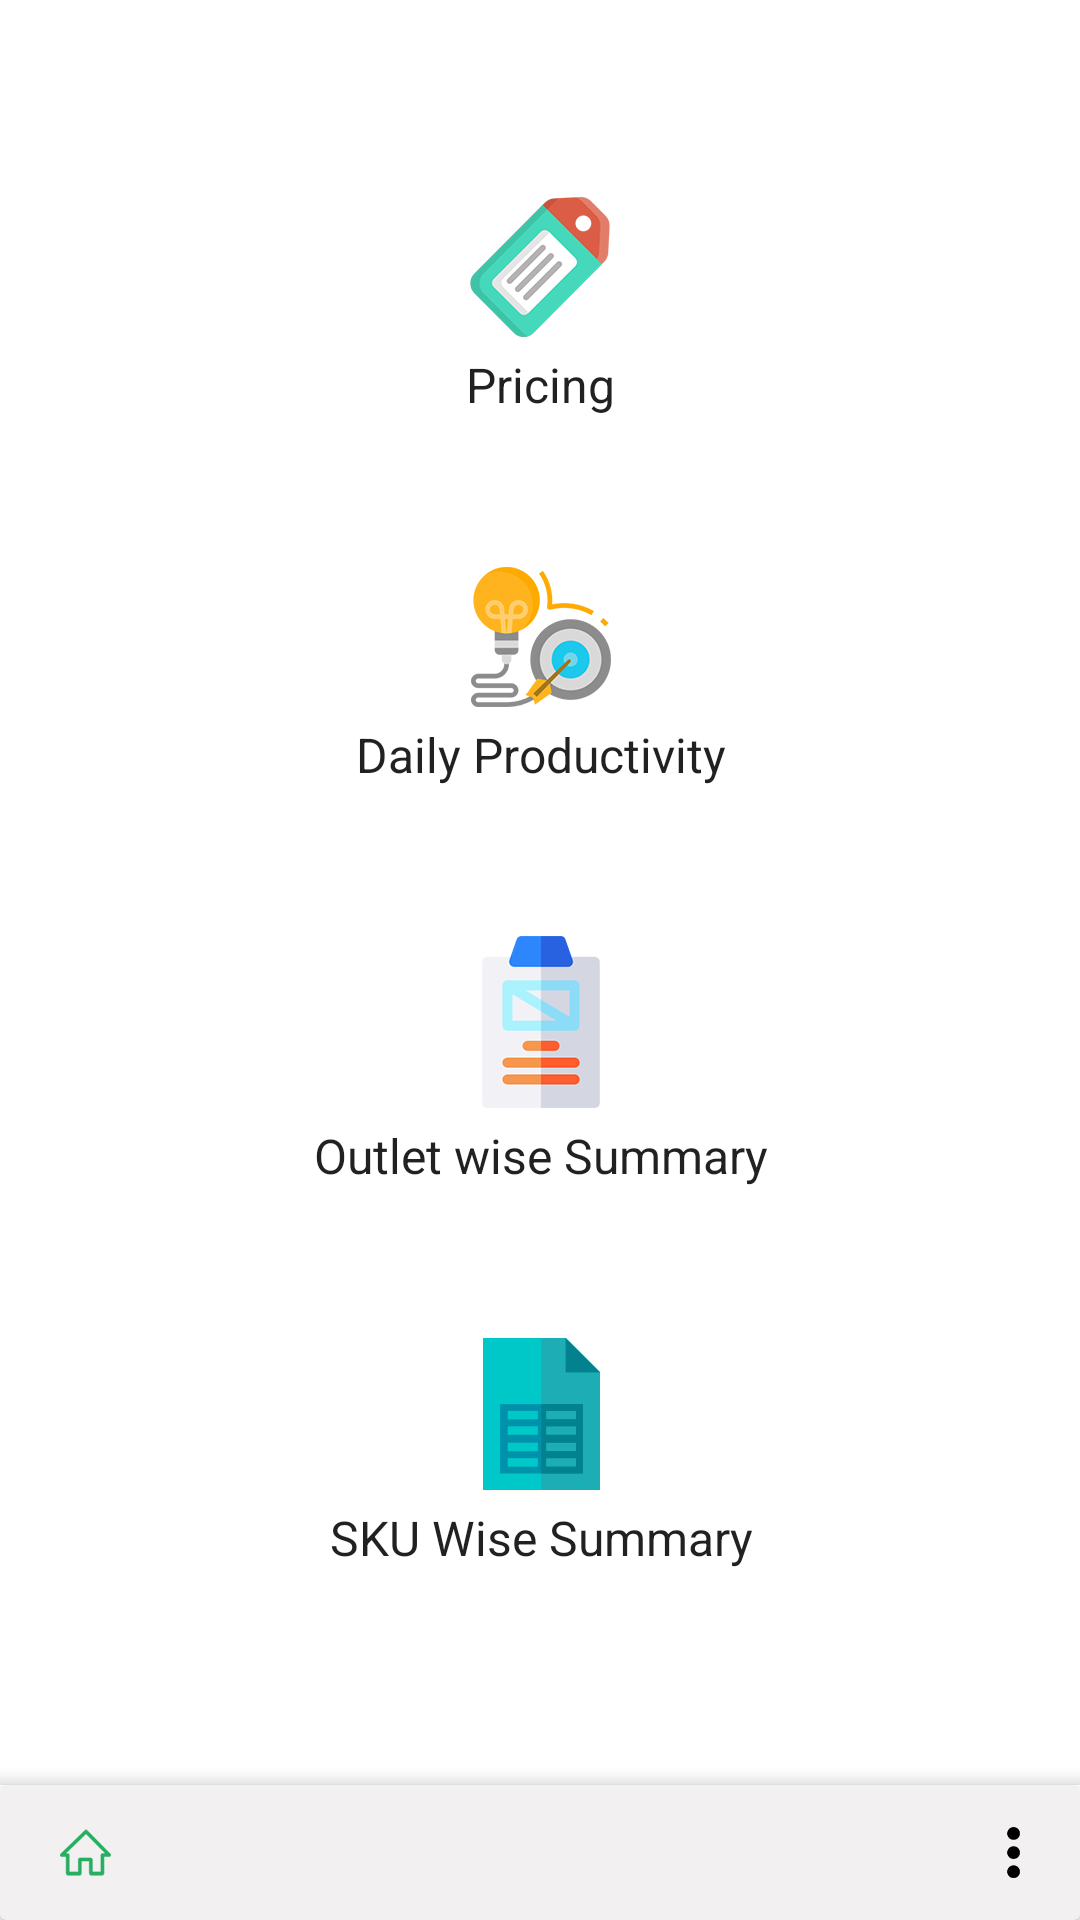

Icons on this 1080w x 1920h Android screen, each with its box as (x1, y1, x2, y2):
home: (60, 1829, 111, 1876)
overflow: (1007, 1827, 1020, 1878)
